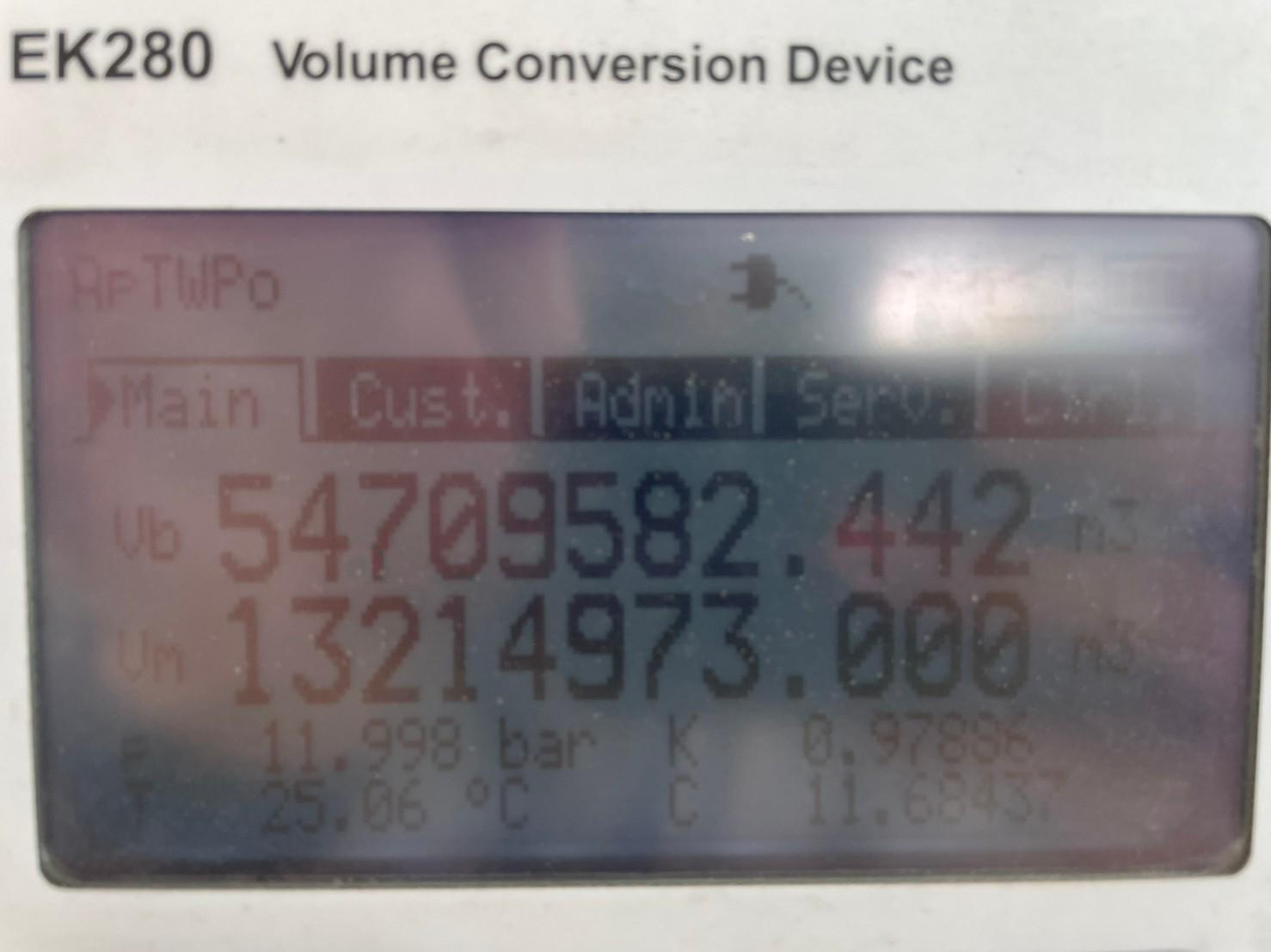digital_screen: (22, 210, 1271, 881)
